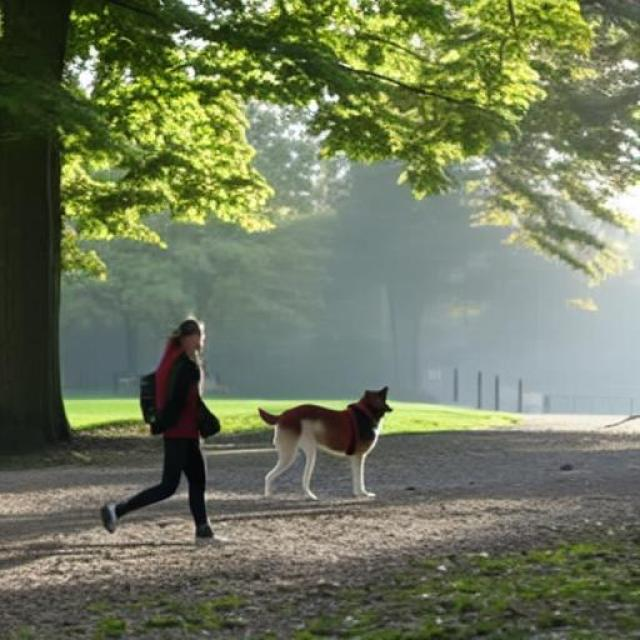Unleashed_Dog: (163, 387, 394, 502)
